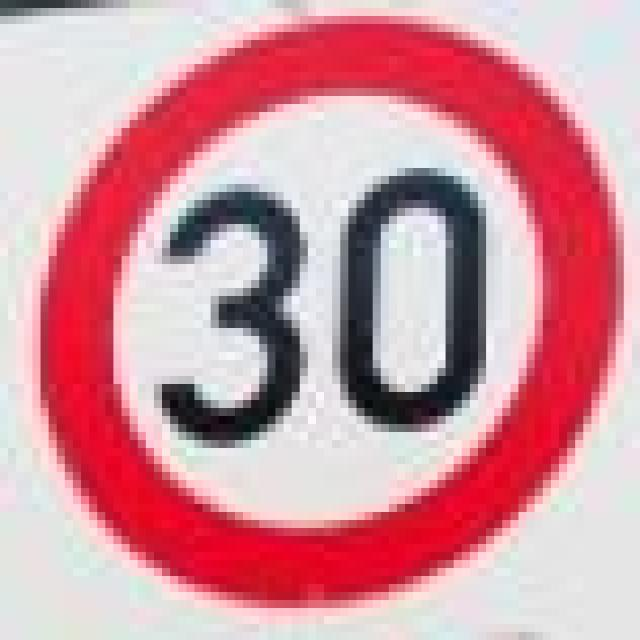speed_limit_30: (32, 16, 608, 608)
